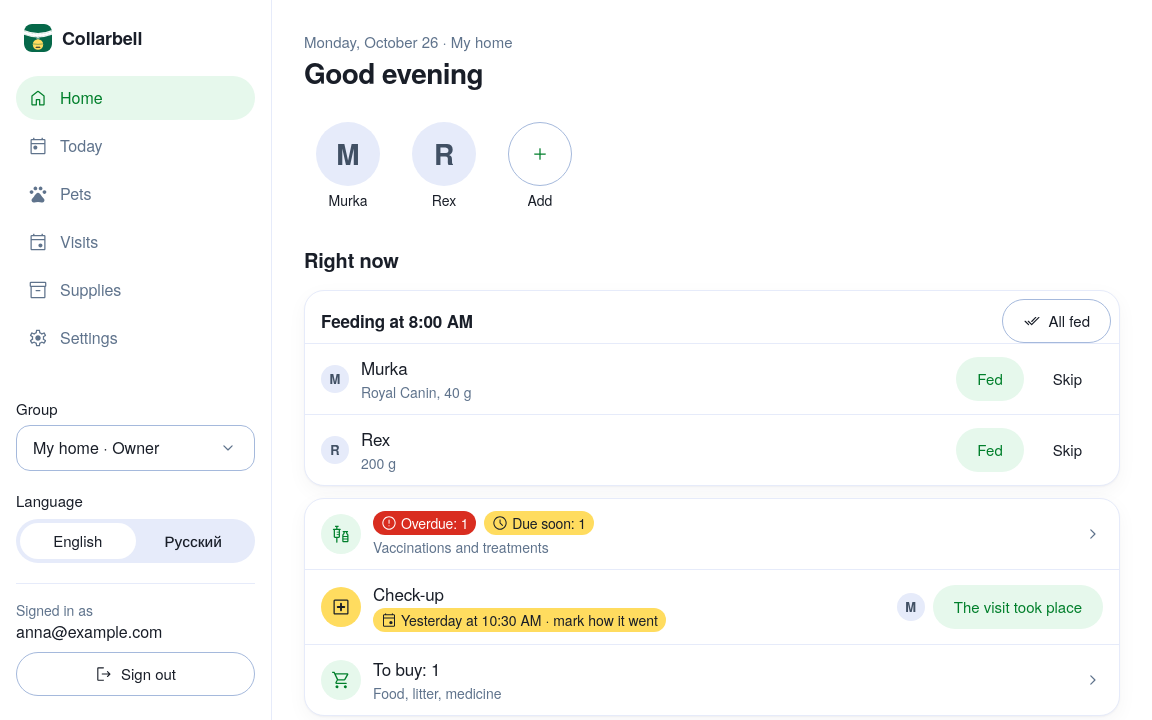
Home › says who marked a feeding first, as Today does
Click the button "Fed" in the row of "Royal Canin, 40 g".
click(990, 379)  # box [956, 357, 1024, 401]
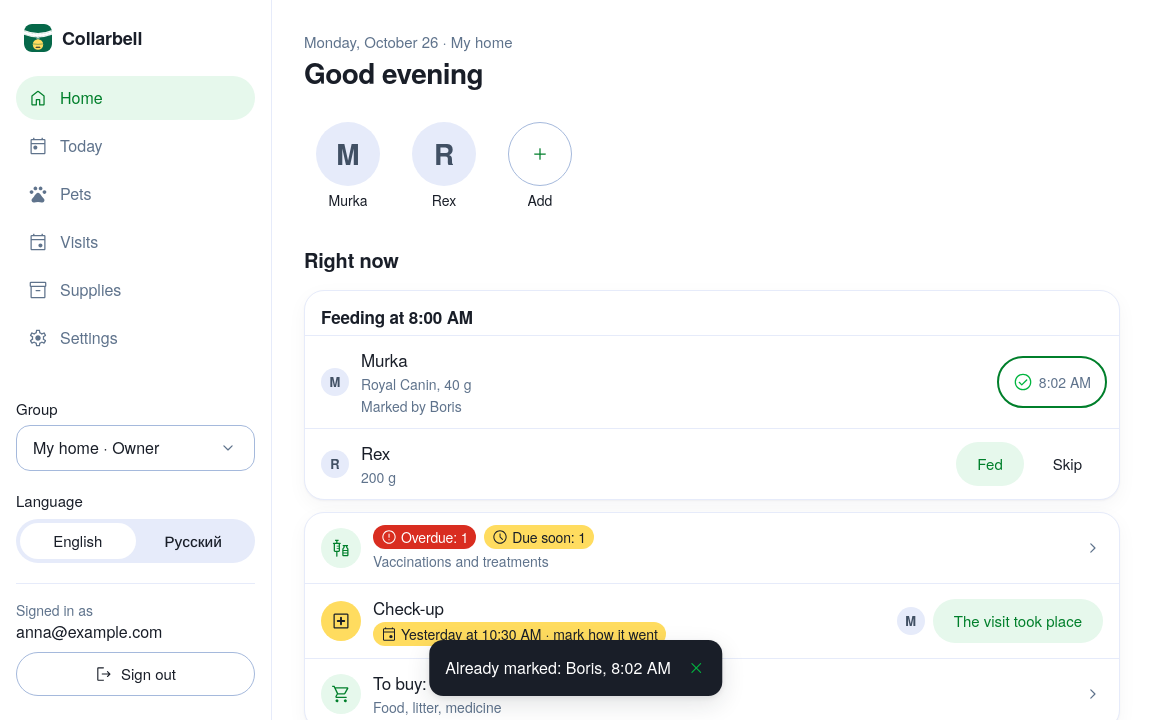
Check: the text "Already marked: Boris, 8:02 AM" is shown, box [445, 656, 671, 680]
